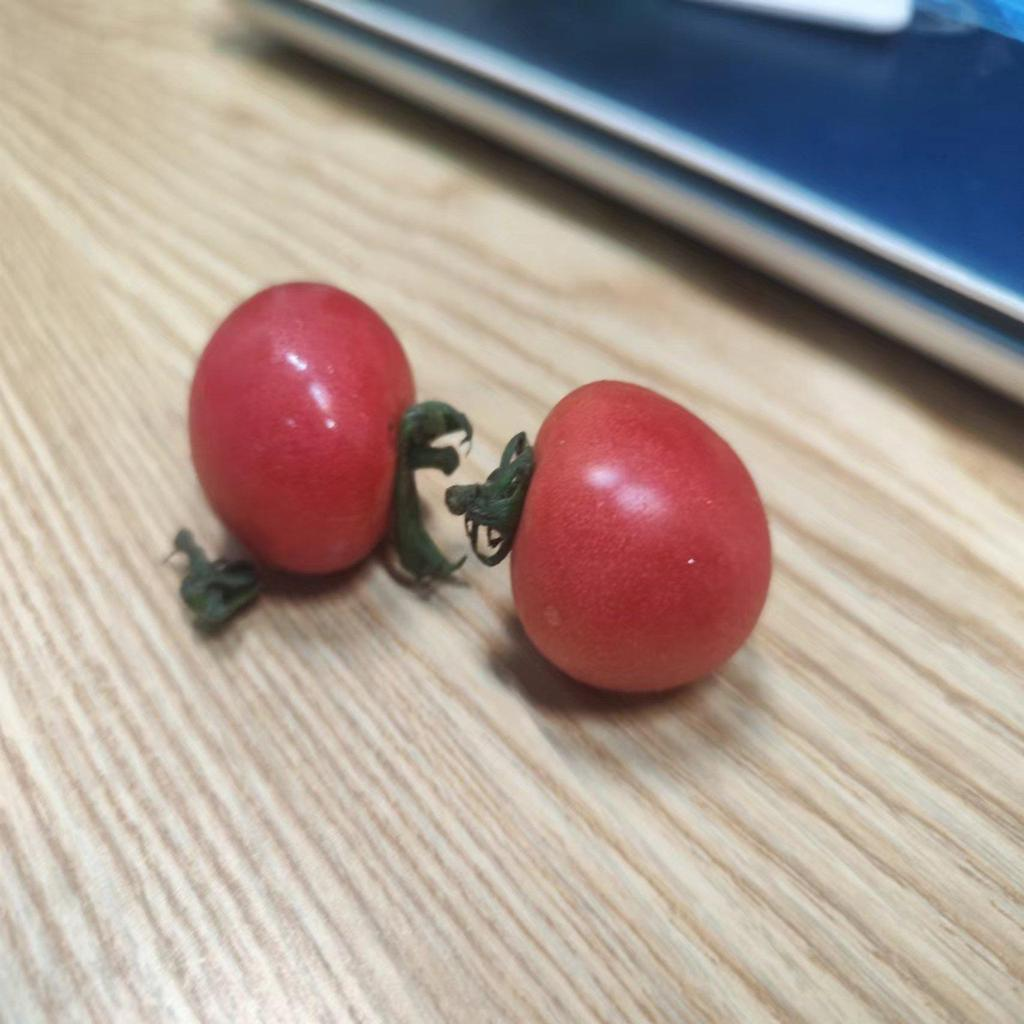tomato: (175, 256, 437, 609), (517, 371, 775, 711)
